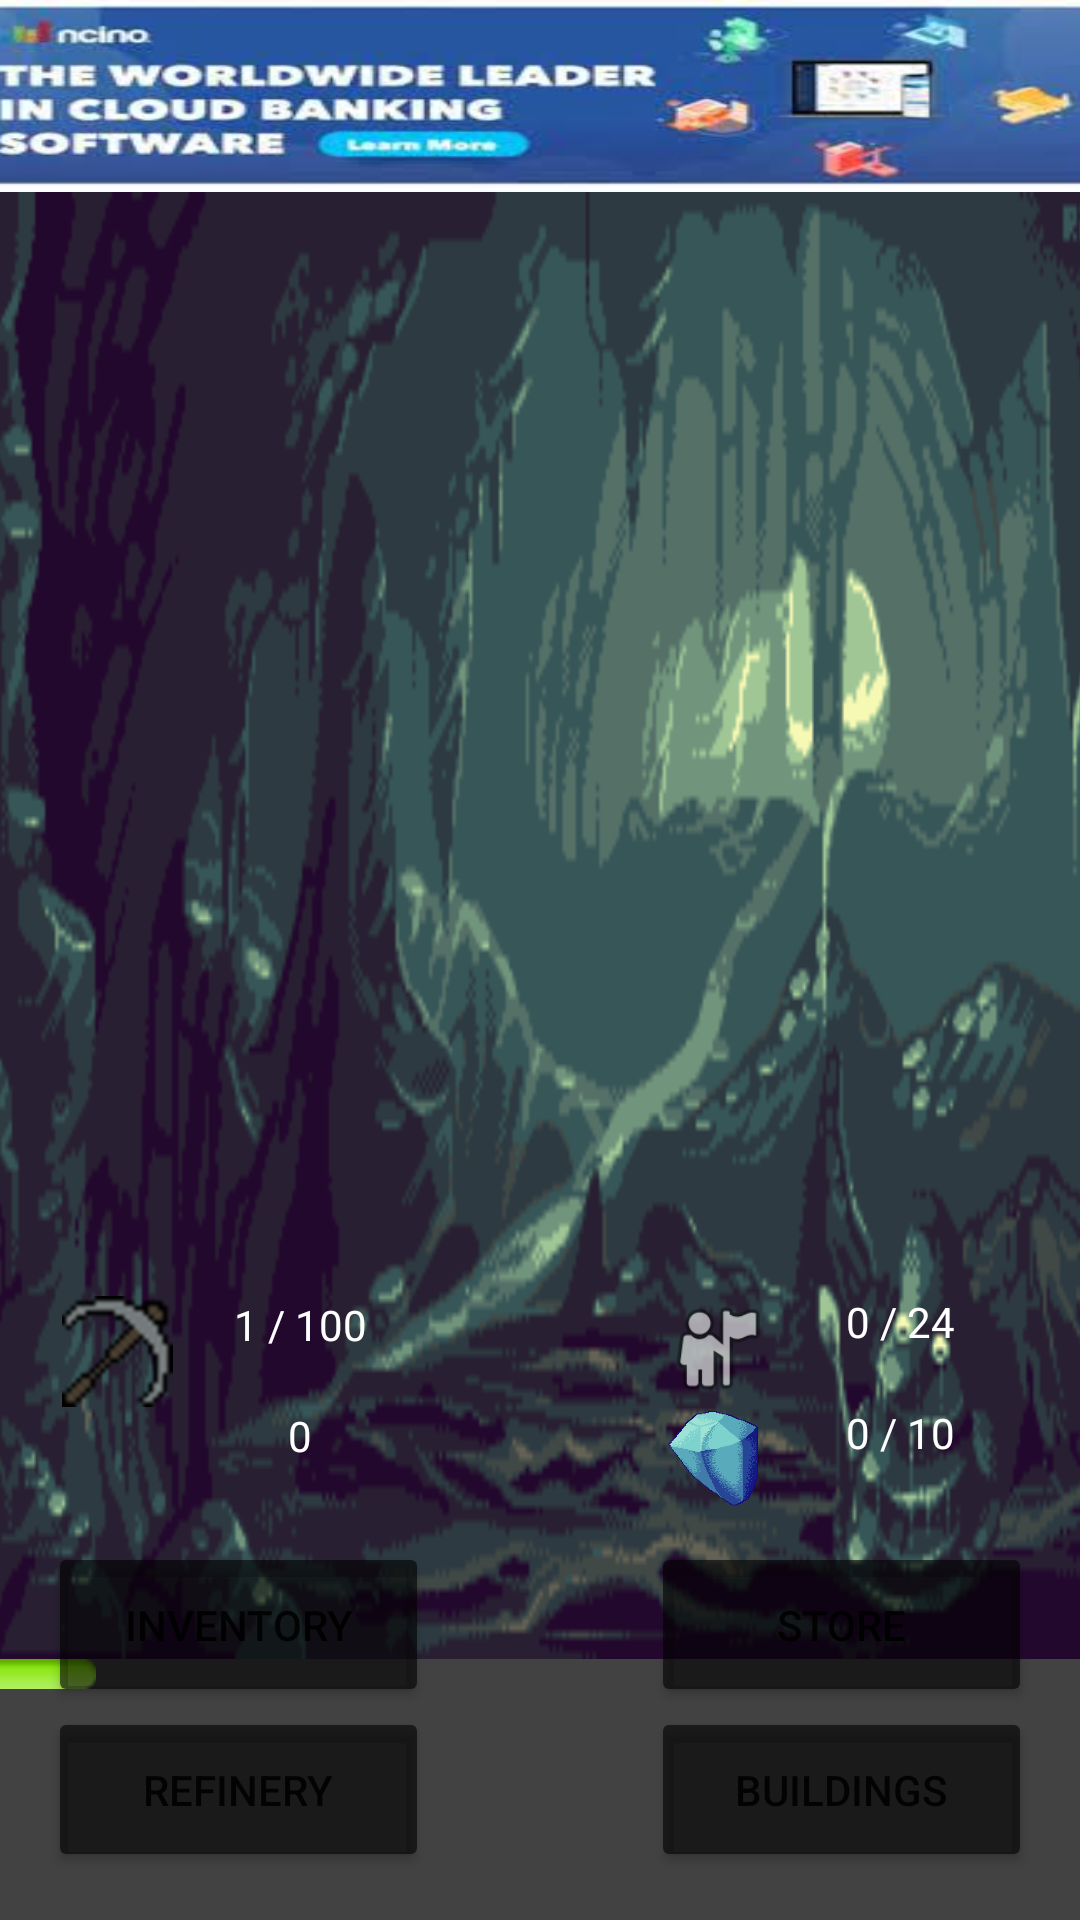

Locate icon controls on the screen. Image size 1080*1920, boxes as [x1=x1, y1=y1, x2=x2, y2=y2].
gem: [x1=651, y1=1404, x2=783, y2=1505]
miningicon: [x1=51, y1=1296, x2=180, y2=1407]
myplaces: [x1=651, y1=1293, x2=783, y2=1404]
